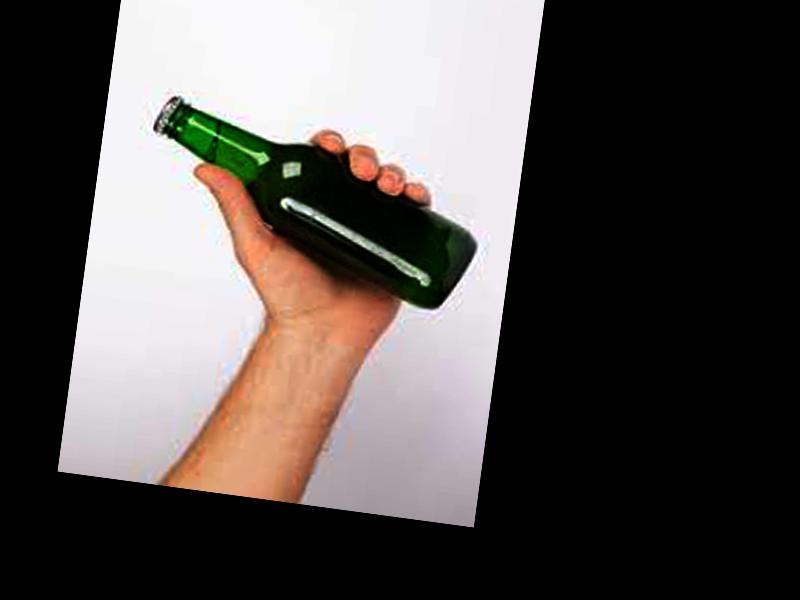Beer: (132, 95, 487, 313)
